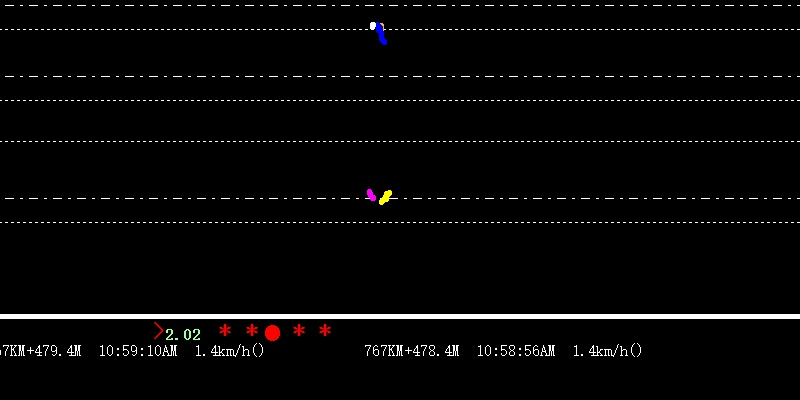circle: (263, 320, 282, 345)
face_s: (375, 17, 387, 45)
star: (244, 319, 260, 342), (290, 320, 308, 340), (316, 321, 334, 341), (219, 321, 232, 340)
